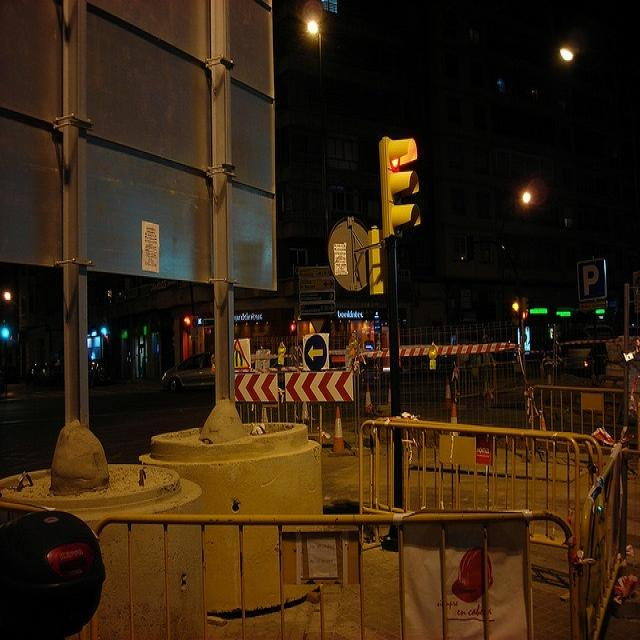car: (0, 499, 106, 628), (159, 350, 213, 390)
pole: (384, 242, 410, 546)
reflective_cone: (327, 400, 350, 456), (440, 376, 453, 409), (362, 380, 374, 415), (446, 401, 458, 424)
